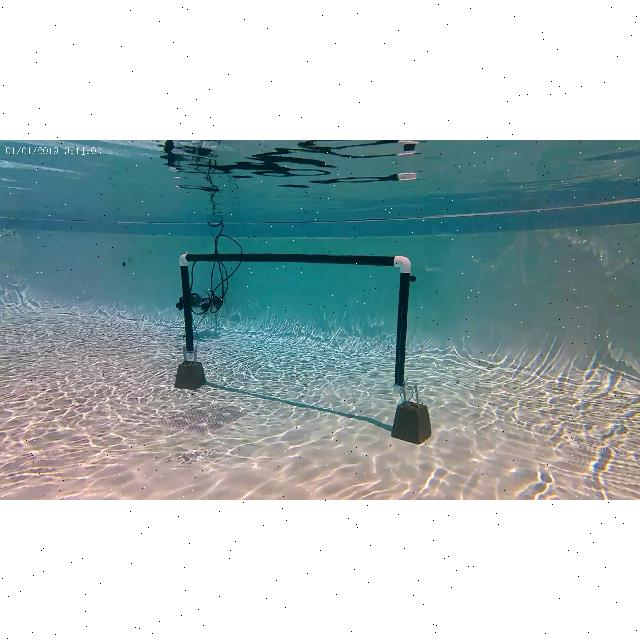prequal gate: (174, 252, 414, 392)
prequal gate leg l: (172, 250, 206, 392)
prequal gate leg r: (392, 252, 436, 444)
